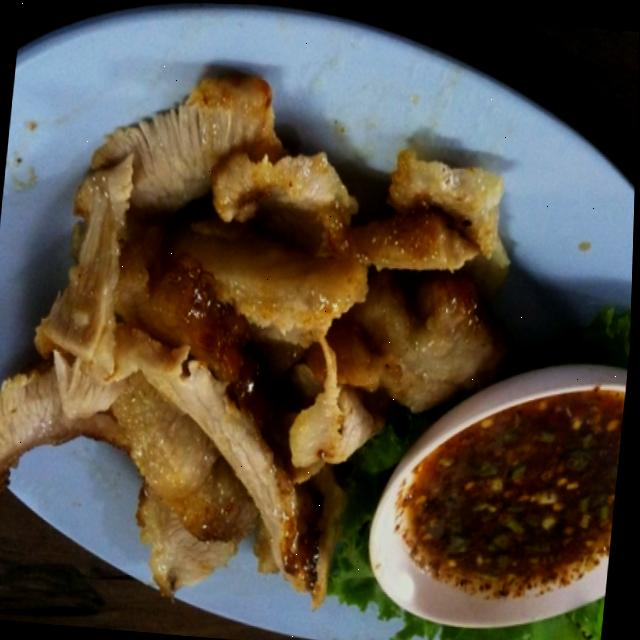猪肉菜式: (0, 56, 639, 640)
